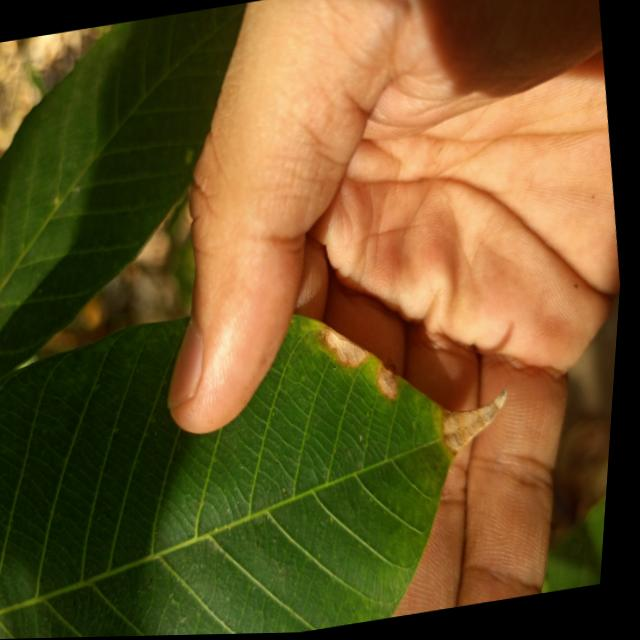Leaf-Blight: (442, 389, 520, 457), (322, 320, 379, 372), (377, 364, 408, 406)
